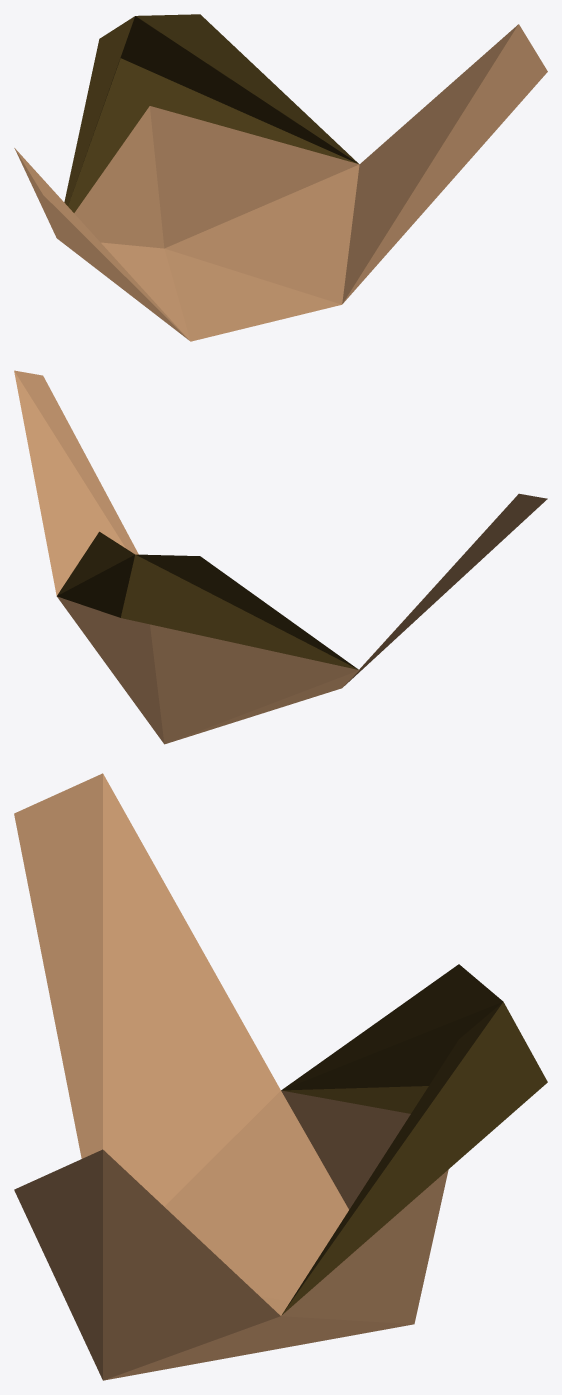
The model's file is player_male_beard_13_0.obj.
3 renders of one model, top to bottom at view 1: azimuth 30°, elevation 25°; view 2: azimuth 150°, elevation 25°; view 3: azimuth 270°, elevation 25°, orthographic. The views are drawn at different scales.
Bounding box in the file's own units: 0.1562 × 0.0703 × 0.0938.
